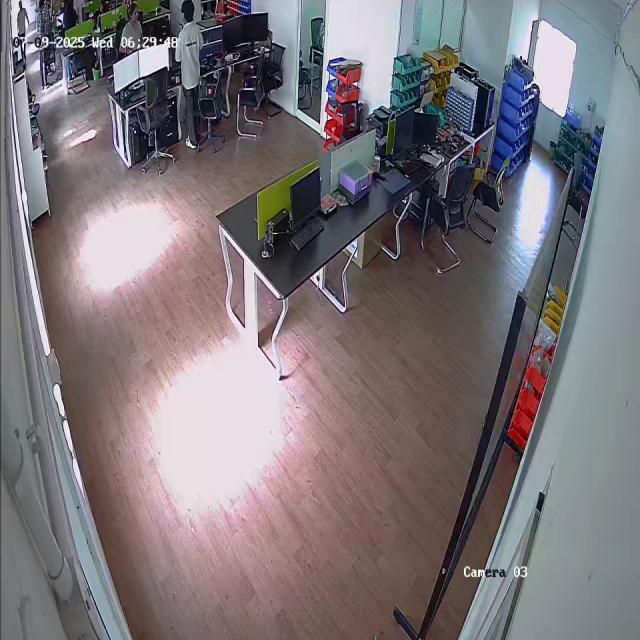person: (176, 0, 206, 153), (117, 2, 142, 52), (33, 0, 47, 89), (16, 0, 29, 57)
